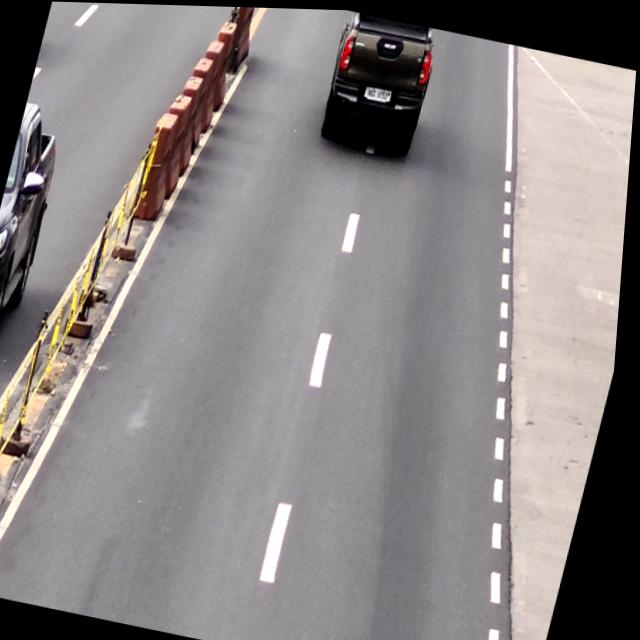Car: (314, 8, 441, 156)
License-Plate: (366, 83, 392, 100)
